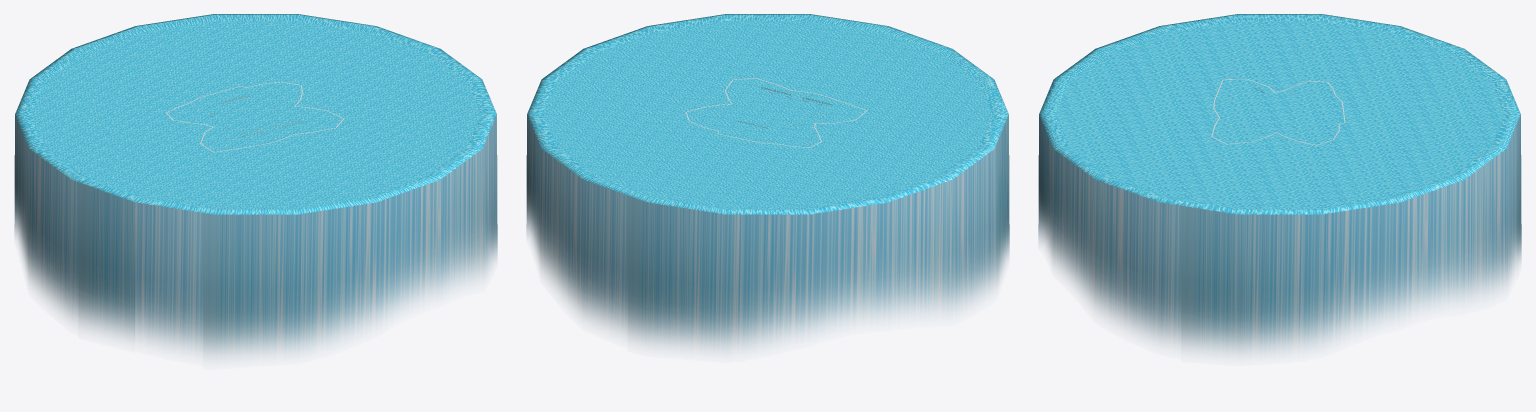
Rendered from bolt01sadhfbsasdv.animation.glb.
3 renders of one model, left to right at view 1: azimuth 30°, elevation 25°; view 2: azimuth 150°, elevation 25°; view 3: azimuth 270°, elevation 25°, orthographic.
Parts seen in each view (by area): view 1: wodospad, Woda_gora, PIANA; view 2: wodospad, Woda_gora, PIANA; view 3: wodospad, Woda_gora, PIANA.
Boxes of the visible parts, <box> form: wodospad: <box>14,14,497,356</box>; Woda_gora: <box>31,21,480,207</box>; PIANA: <box>166,82,344,152</box>; wodospad: <box>526,14,1009,349</box>; Woda_gora: <box>543,21,992,207</box>; PIANA: <box>685,78,867,147</box>; wodospad: <box>1038,14,1521,353</box>; Woda_gora: <box>1055,21,1504,207</box>; PIANA: <box>1211,79,1345,145</box>.
Bounding box in the file's own units: 4047 × 1750 × 4109.
9 materials, 9 textured.
